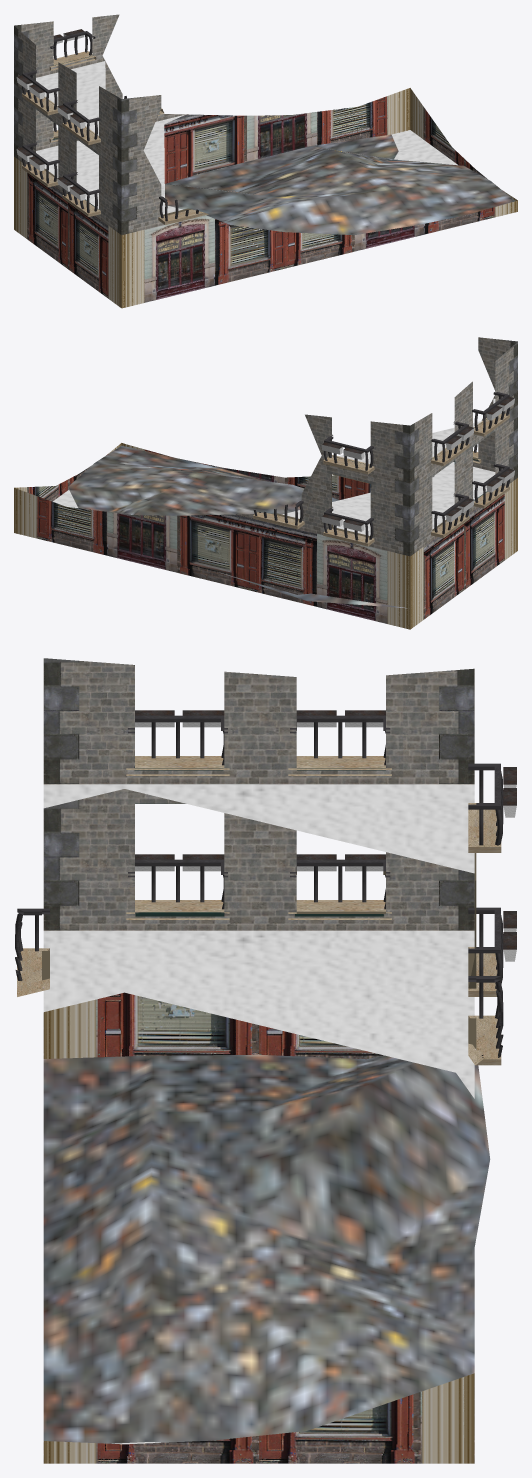
Rendered from House_002_destroyed_003.dae.
The picture shows the model from 3 angles, top to bottom: view 1: azimuth 30°, elevation 25°; view 2: azimuth 150°, elevation 25°; view 3: azimuth 270°, elevation 25°; orthographic projection. The views are drawn at different scales.
Visible parts, largest first — view 1: House_002; view 2: House_002; view 3: House_002.
Boxes of the visible parts, x1=… form: House_002: x1=14, y1=14, x2=517, y2=308; House_002: x1=14, y1=337, x2=517, y2=629; House_002: x1=15, y1=658, x2=516, y2=1463.
Bounding box in the file's own units: 143 × 74.57 × 68.67.
1 material, 1 textured.
